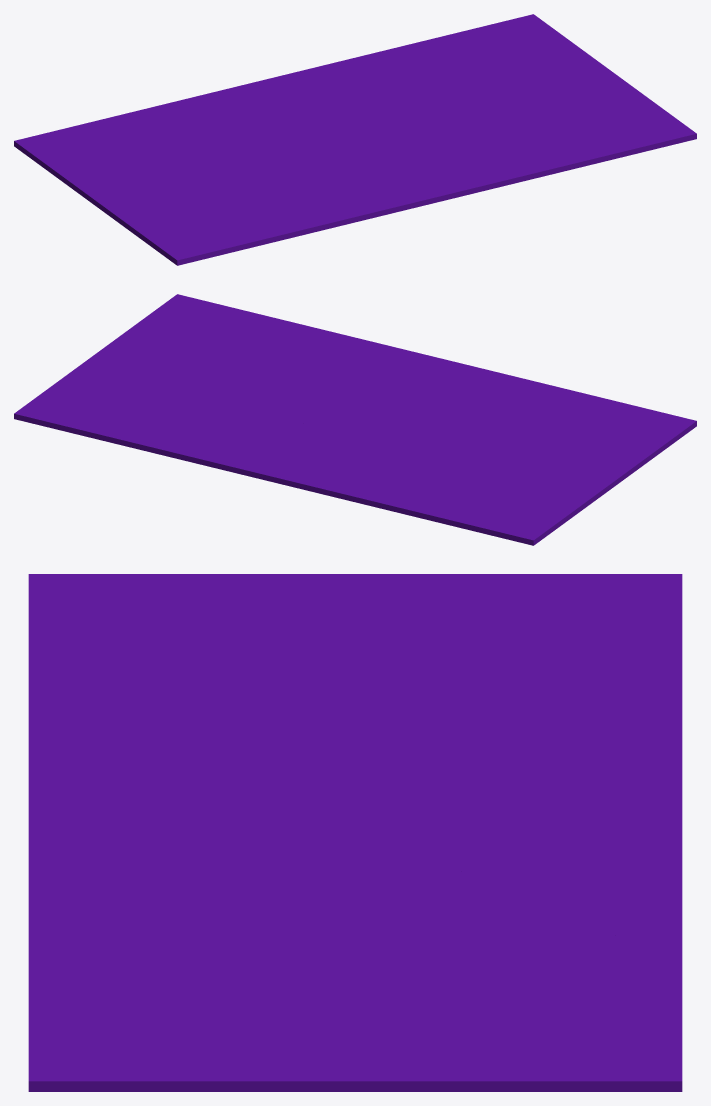
Rendered from Exhibition_18.002_chunks.fbx.
The picture shows the model from 3 angles, top to bottom: view 1: azimuth 30°, elevation 25°; view 2: azimuth 150°, elevation 25°; view 3: azimuth 270°, elevation 25°; orthographic projection. The views are drawn at different scales.
Parts seen in each view (by area): view 1: Exhibition_18.002_2, Exhibition_18.002_0, Exhibition_18.002_3; view 2: Exhibition_18.002_2, Exhibition_18.002_0, Exhibition_18.002_3; view 3: Exhibition_18.002_2, Exhibition_18.002_0, Exhibition_18.002_3.
Part boxes in pixels (box(x1,y1,x2,y2)): Exhibition_18.002_2: box(355, 14, 696, 193); Exhibition_18.002_0: box(52, 137, 473, 265); Exhibition_18.002_3: box(14, 43, 412, 174); Exhibition_18.002_2: box(14, 294, 400, 447); Exhibition_18.002_0: box(355, 348, 696, 516); Exhibition_18.002_3: box(133, 417, 572, 545); Exhibition_18.002_2: box(28, 827, 682, 1091); Exhibition_18.002_0: box(28, 574, 526, 863); Exhibition_18.002_3: box(357, 574, 682, 963).
Size of the model in its own units: 1622 by 16.06 by 883.
